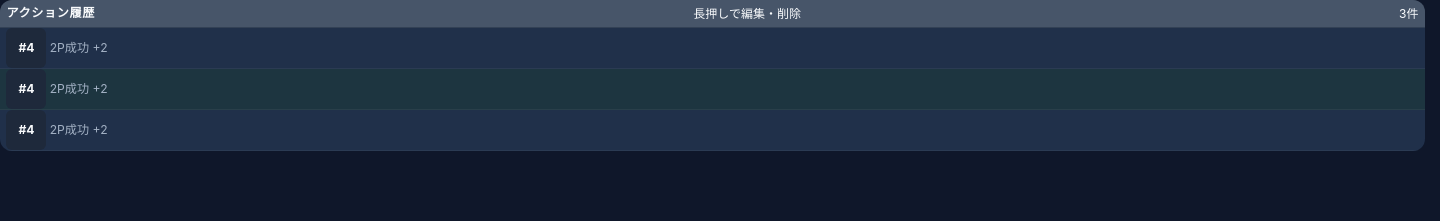
Test: ActionHistory: メニューの置き方 › 閉じたときには寄せ直さない
This screenshot has width=1440, height=221.
Press Enter in the 1st button with class "history-item-main", box [6,28,1419,68]
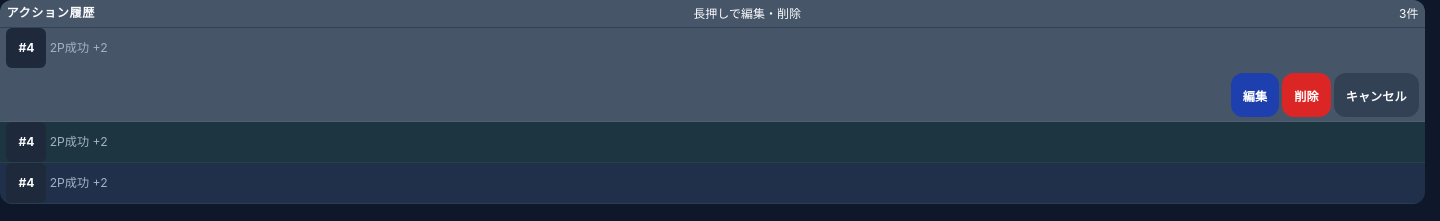
Click the button "キャンセル" at (1376, 95), box [1334,73,1418,117]
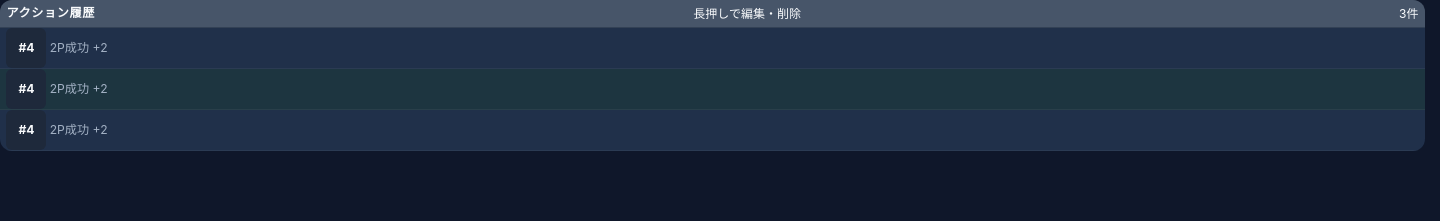
Result: the element with class "action-menu" is gone
